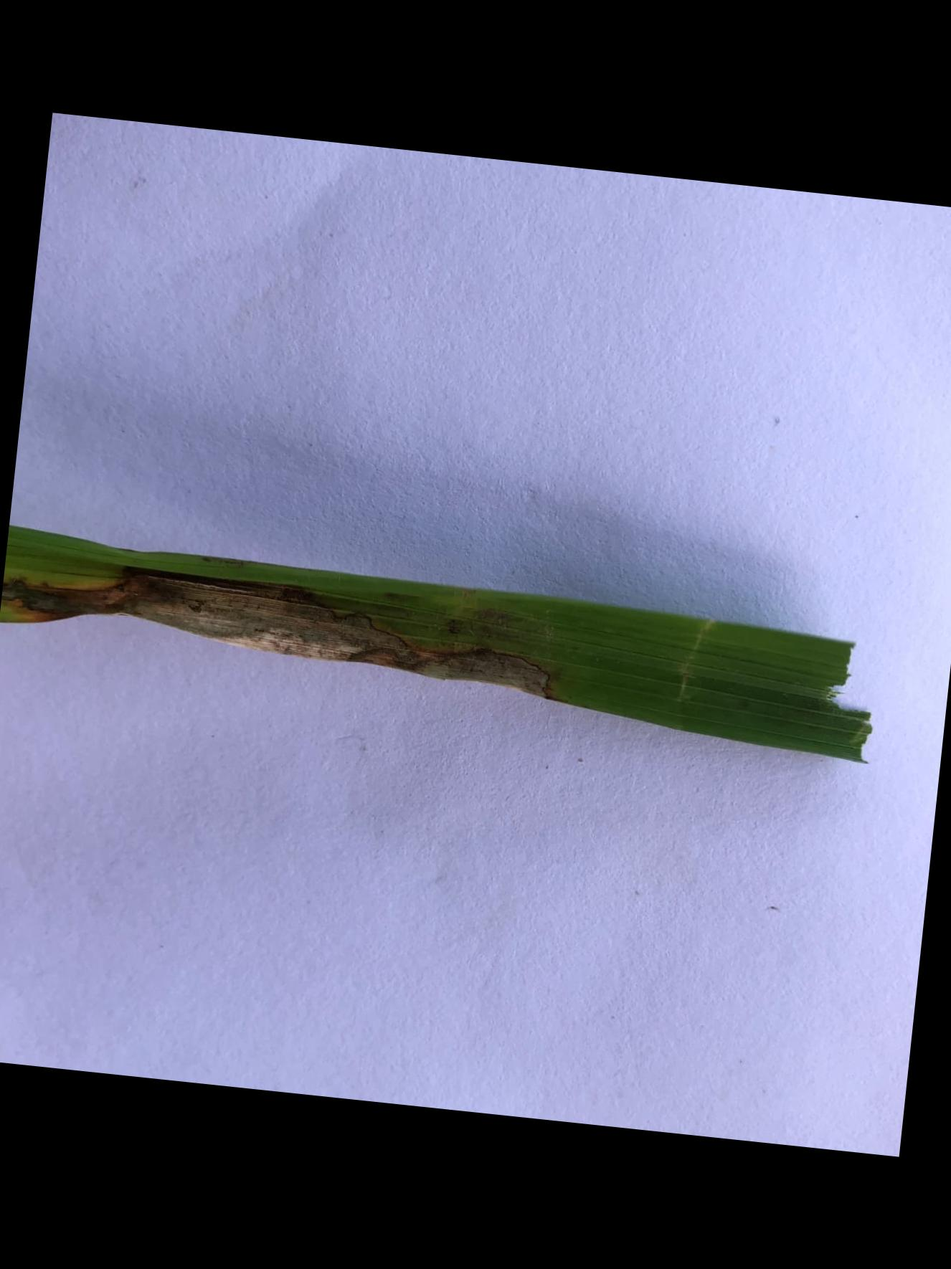Leaf Blight: (1, 566, 550, 698)
